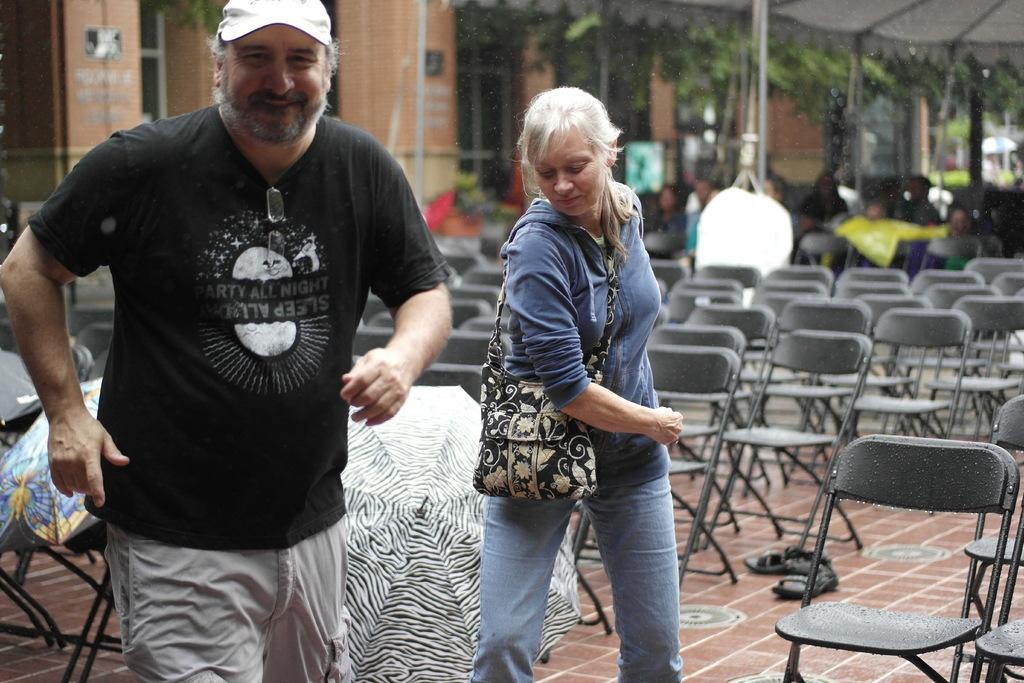Chair: (0, 183, 1023, 682), (777, 415, 1018, 675)
